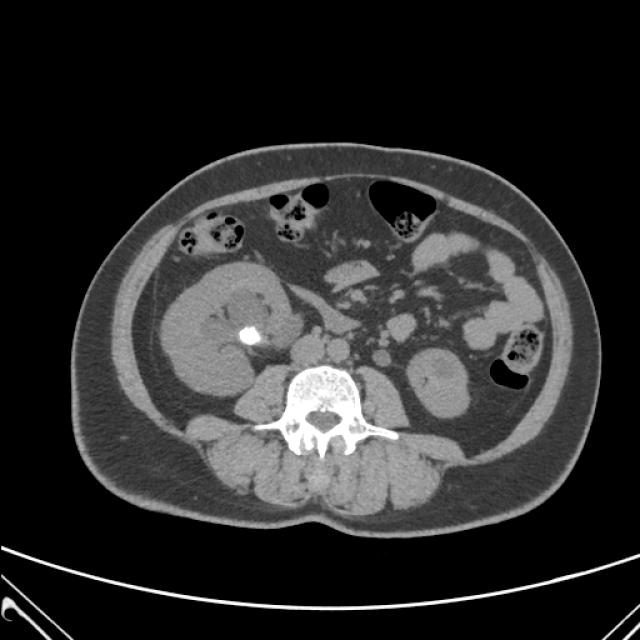kidney: (205, 285, 292, 369), (398, 342, 471, 422)
stone: (234, 322, 260, 347)
